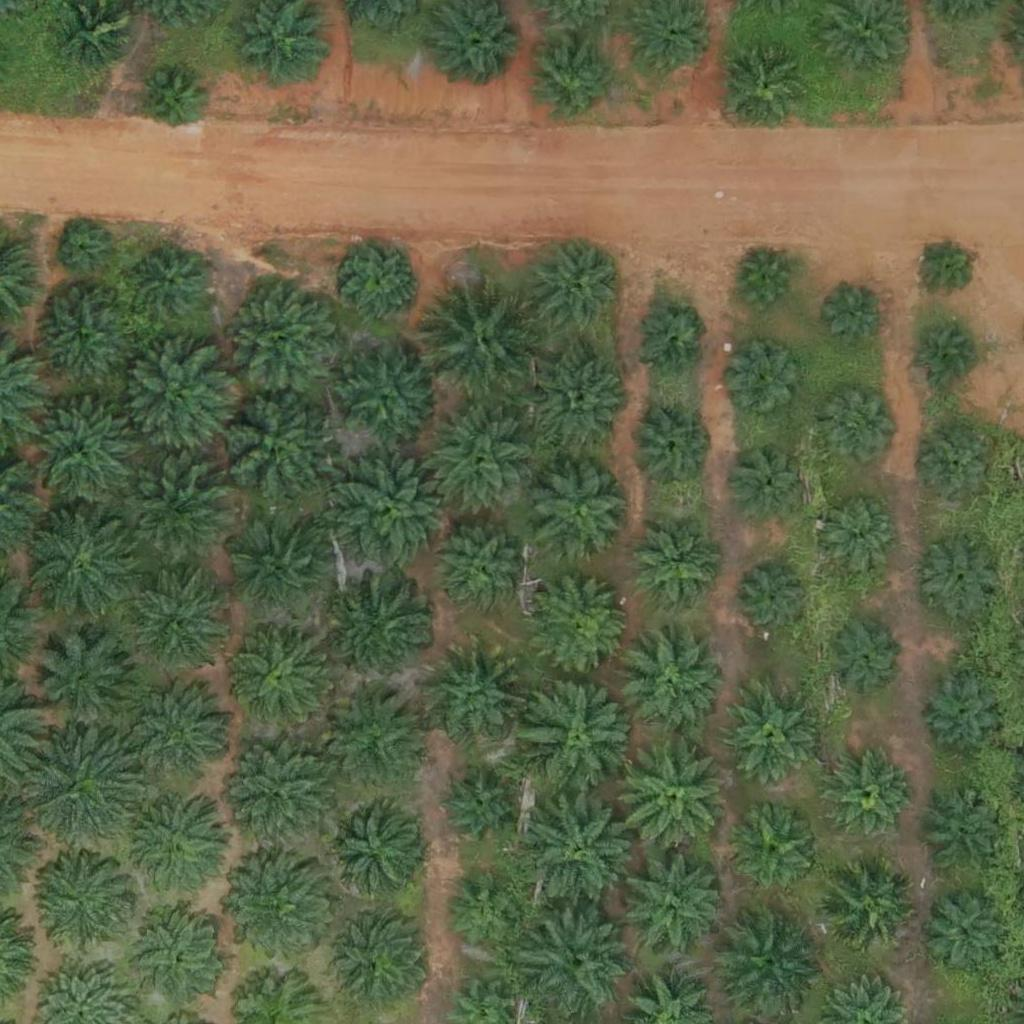Kelapa_Sawit: (22, 501, 147, 627), (17, 726, 142, 852), (222, 274, 347, 400), (210, 385, 335, 511), (215, 732, 340, 858), (330, 449, 455, 575), (421, 275, 546, 401), (417, 398, 542, 524), (519, 674, 644, 800), (519, 787, 644, 913), (611, 734, 736, 860), (18, 393, 143, 518), (27, 627, 140, 740), (126, 681, 239, 794), (521, 904, 634, 1017), (218, 856, 331, 969), (114, 789, 227, 902), (712, 907, 824, 1021), (120, 342, 232, 455), (121, 454, 233, 567), (31, 287, 131, 388), (230, 521, 330, 622), (231, 622, 331, 723), (338, 577, 438, 678), (326, 682, 426, 783), (429, 645, 529, 746), (322, 799, 422, 900), (324, 911, 424, 1012), (129, 909, 229, 1010), (30, 853, 130, 954), (336, 346, 436, 446), (526, 238, 626, 338), (530, 354, 630, 454), (530, 461, 630, 561), (532, 578, 632, 678), (623, 634, 723, 734), (717, 685, 817, 785), (820, 861, 920, 961), (625, 853, 725, 953), (917, 532, 1005, 620), (723, 40, 811, 128), (133, 577, 221, 665), (632, 524, 720, 612), (921, 672, 1009, 760), (730, 809, 818, 897), (627, 403, 714, 491), (531, 37, 618, 125), (438, 528, 525, 616), (826, 753, 913, 841), (921, 791, 1008, 879), (923, 889, 1010, 977), (821, 494, 896, 570), (731, 442, 806, 518), (736, 561, 811, 637), (825, 617, 900, 693), (343, 243, 418, 319), (631, 303, 706, 379), (729, 345, 804, 420), (822, 387, 897, 462), (920, 431, 995, 506), (447, 874, 522, 949), (134, 246, 209, 321), (440, 771, 515, 846), (141, 70, 204, 133), (914, 235, 977, 298), (915, 324, 978, 387), (734, 251, 796, 314), (824, 284, 886, 347), (59, 225, 109, 275)
